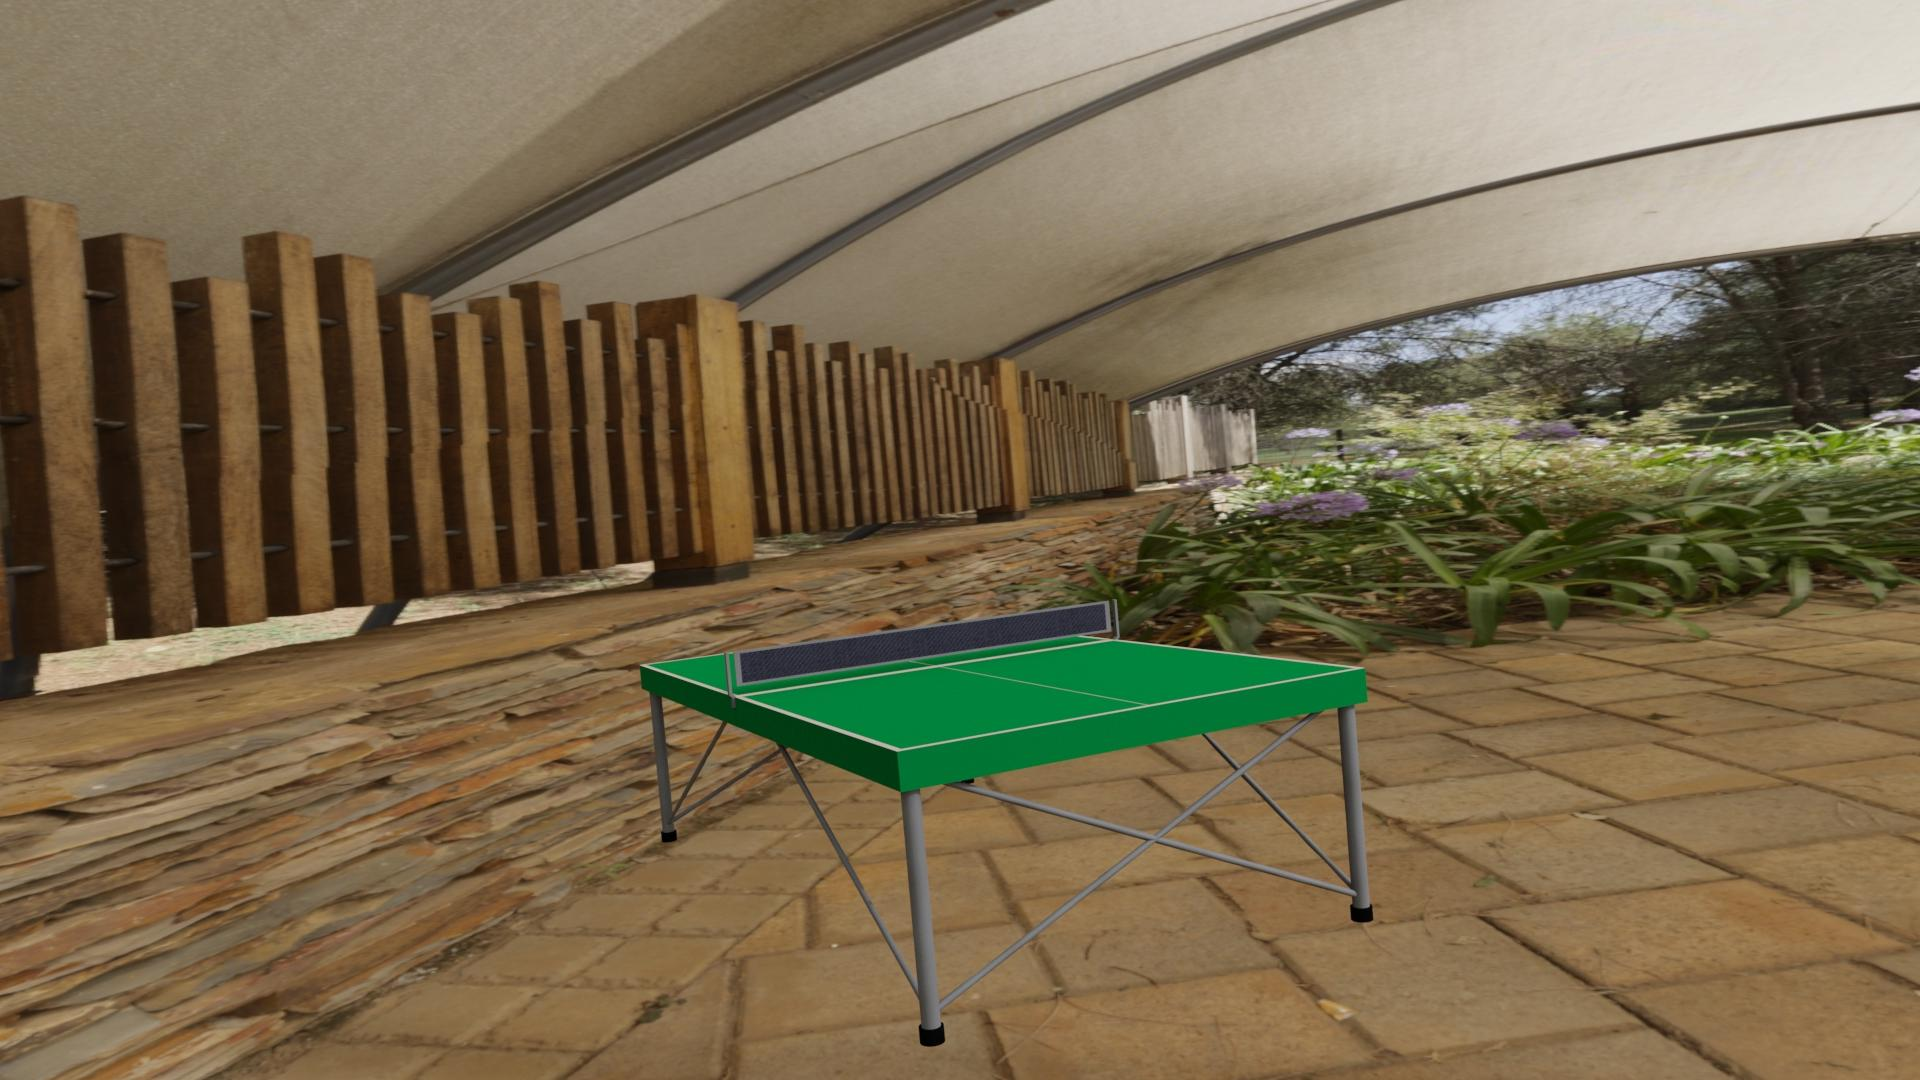table: (645, 622, 1356, 749)
